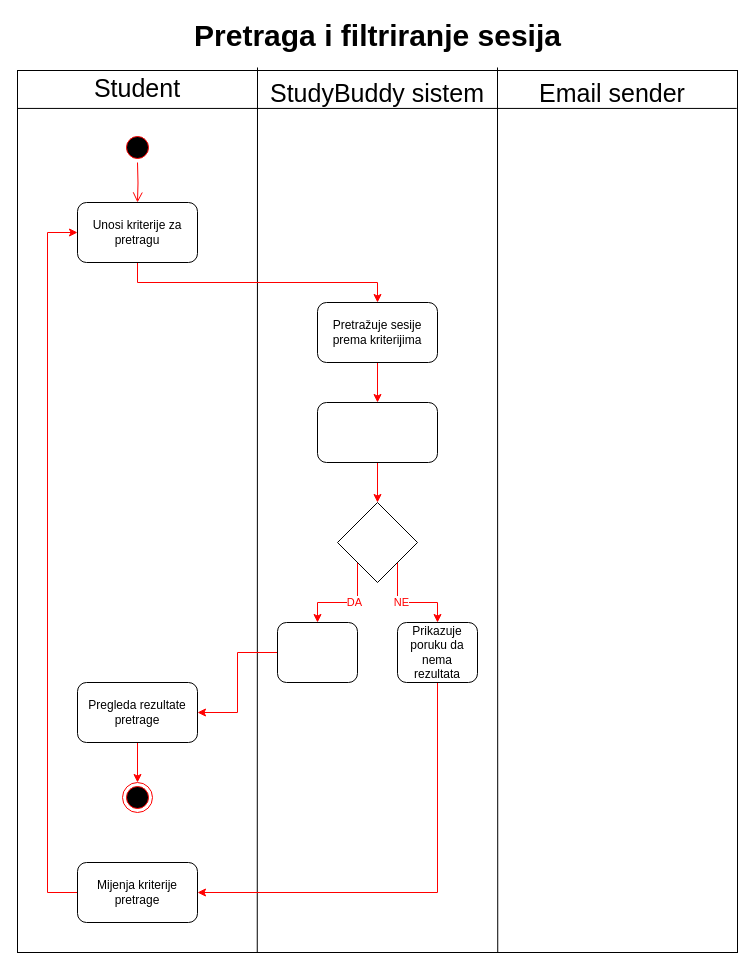
The diagram is 756 pixels wide and 971 high, and some of its shapes have lost their labels. The shapes that lost their labels are listed below. From the top down, each one's centre as x and y in pixels, then its label:
At (x=377, y=432): "Filtrira rezultate pretrage".
At (x=377, y=542): "Postoje li rezultati?".
At (x=317, y=652): "Prikazuje listu sesija".
